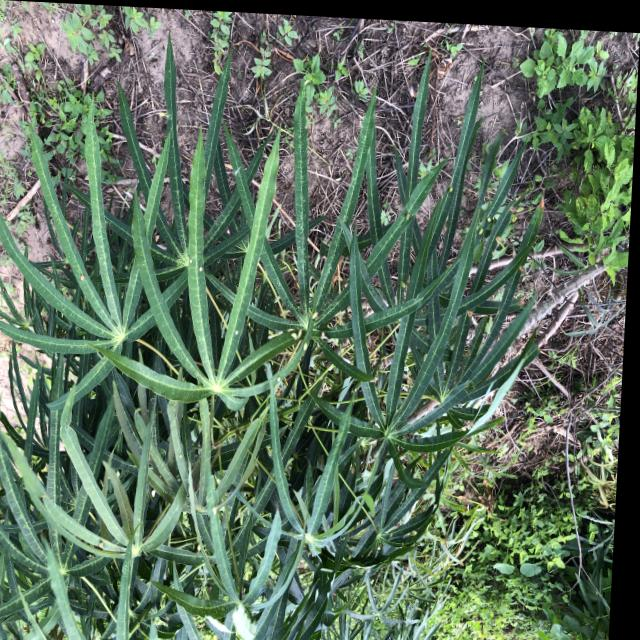Maleza: (447, 470, 631, 640), (536, 47, 640, 283)
Mosca: (282, 324, 311, 358), (313, 327, 339, 352), (142, 477, 166, 502), (184, 253, 205, 275), (272, 378, 287, 408), (269, 289, 287, 308), (24, 499, 44, 516), (218, 223, 233, 243), (75, 272, 93, 288), (304, 302, 317, 323), (445, 179, 455, 198)
